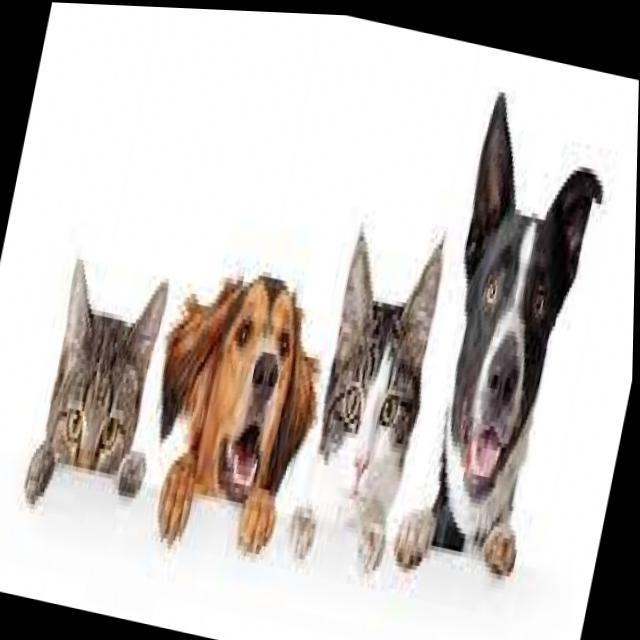Cat: (1, 165, 198, 584), (277, 163, 460, 604)
Dog: (383, 88, 637, 626), (137, 218, 341, 569)
